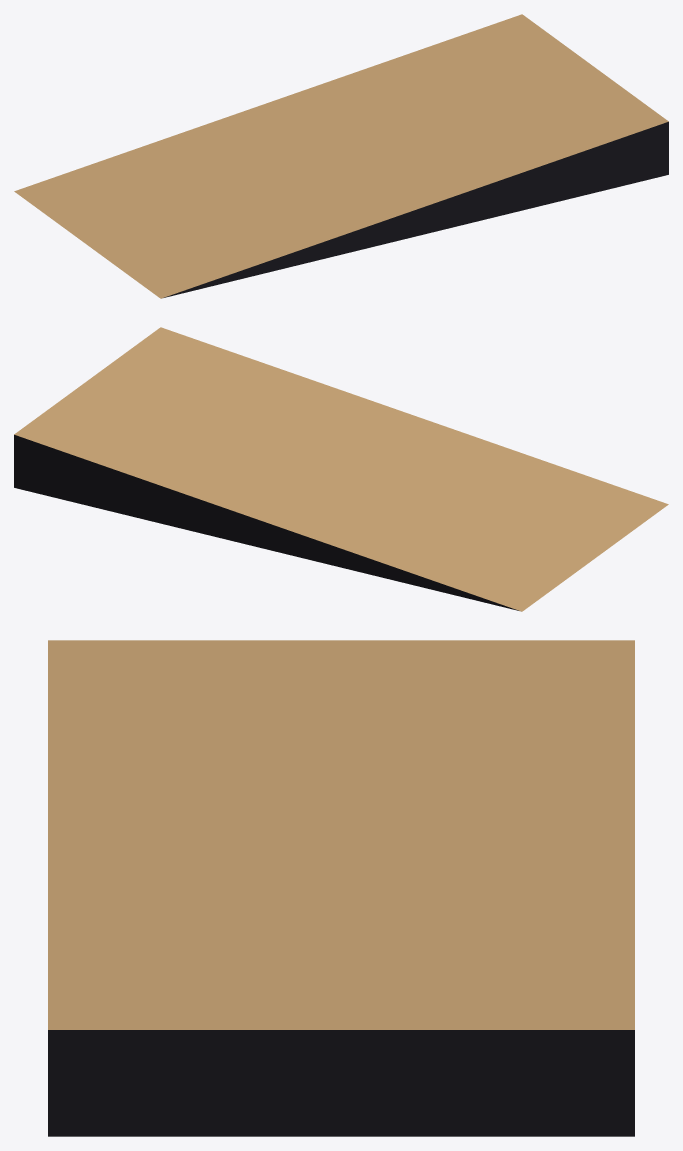
The model's file is Ramp_Half_1.fbx.
3 views of the same model, one above another, from view 1: azimuth 30°, elevation 25°; view 2: azimuth 150°, elevation 25°; view 3: azimuth 270°, elevation 25° (orthographic). The views are drawn at different scales.
Parts seen in each view (by area): view 1: Ramp_Half_1; view 2: Ramp_Half_1; view 3: Ramp_Half_1.
Boxes of the visible parts, x1,y1,x2,y2 form: Ramp_Half_1: (14,14,668,298); Ramp_Half_1: (14,327,668,611); Ramp_Half_1: (48,640,634,1136).
Bounding box in the file's own units: 10 × 1 × 5.
